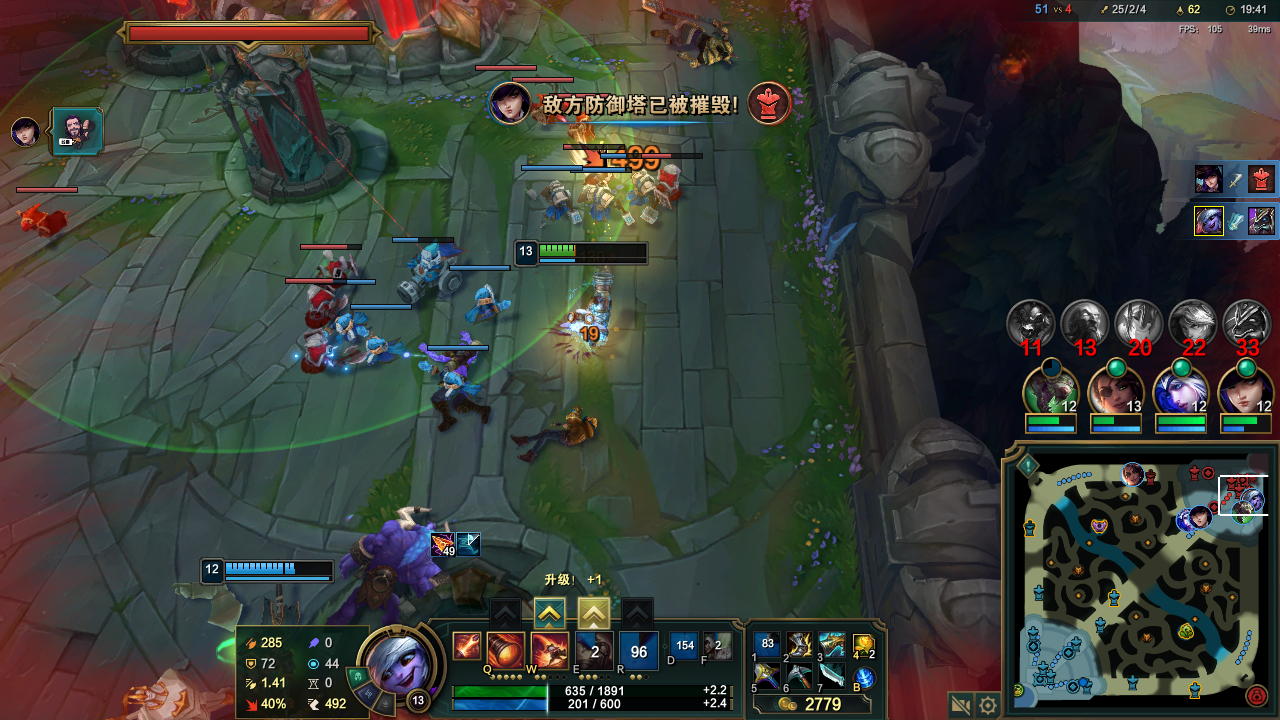DFFYT: (203, 30, 357, 200)
DFXB: (312, 247, 368, 291), (20, 204, 80, 244), (297, 325, 342, 376), (287, 286, 344, 322), (654, 166, 691, 214), (530, 92, 566, 125), (567, 114, 597, 141)
Tuijianshengji: (574, 594, 616, 632)
WFXB: (399, 242, 472, 305), (461, 282, 518, 340), (578, 176, 628, 234), (359, 329, 406, 371), (628, 163, 663, 215), (331, 309, 378, 343), (537, 182, 573, 218)
